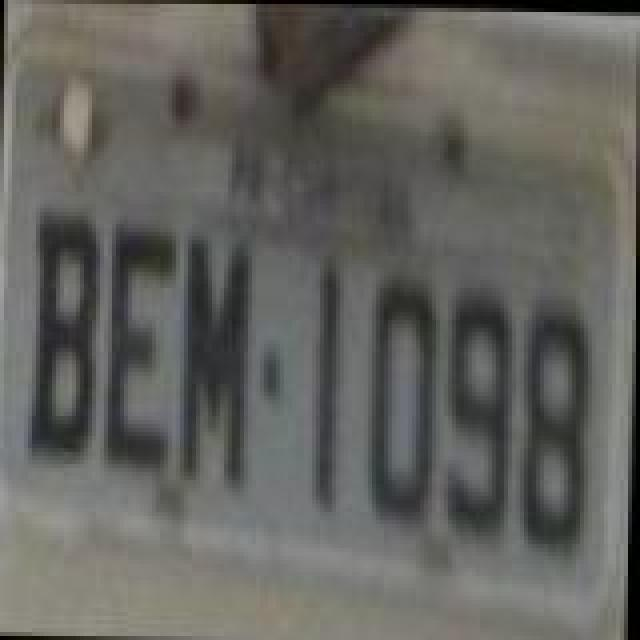1: (308, 254, 344, 522)
8: (514, 288, 594, 556)
9: (438, 282, 518, 550)
B: (28, 208, 108, 464)
E: (100, 214, 180, 478)
M: (182, 226, 258, 494)
O: (362, 264, 442, 532)
